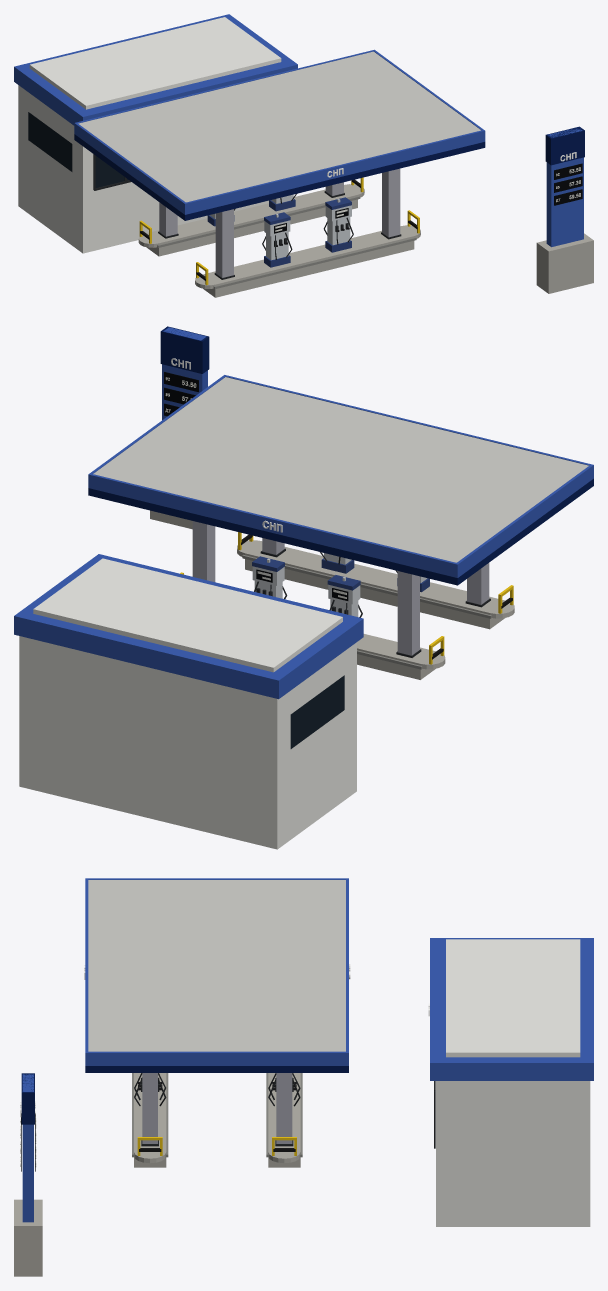
File: azs_snp.glb
3 views of the same model, one above another, from view 1: azimuth 30°, elevation 25°; view 2: azimuth 150°, elevation 25°; view 3: azimuth 270°, elevation 25° (orthographic). The views are drawn at different scales.
Parts seen in each view (by area): view 1: azs_snp_canopy, azs_snp_shop_wall, azs_snp_concrete, azs_snp_brand, azs_snp_shop_band, azs_snp_clad, azs_snp_brand2, azs_snp_stela, azs_snp_shop_glass, azs_snp_pump, azs_snp_curb, azs_snp_stela2 (+4 smaller); view 2: azs_snp_shop_wall, azs_snp_canopy, azs_snp_shop_band, azs_snp_brand, azs_snp_concrete, azs_snp_clad, azs_snp_brand2, azs_snp_shop_glass, azs_snp_stela2, azs_snp_pump, azs_snp_pump2, azs_snp_curb (+2 smaller); view 3: azs_snp_canopy, azs_snp_shop_wall, azs_snp_shop_band, azs_snp_brand, azs_snp_concrete, azs_snp_clad, azs_snp_brand2, azs_snp_stela, azs_snp_curb, azs_snp_metal, azs_snp_stela2.
Part boxes in pixels (bbox=[...]): azs_snp_canopy: bbox=[78, 51, 480, 202]; azs_snp_shop_wall: bbox=[18, 17, 281, 253]; azs_snp_concrete: bbox=[138, 184, 593, 297]; azs_snp_brand: bbox=[74, 49, 485, 214]; azs_snp_shop_band: bbox=[14, 14, 297, 125]; azs_snp_clad: bbox=[159, 168, 400, 277]; azs_snp_brand2: bbox=[74, 134, 485, 220]; azs_snp_stela: bbox=[546, 127, 583, 247]; azs_snp_shop_glass: bbox=[28, 112, 128, 187]; azs_snp_pump: bbox=[210, 194, 351, 260]; azs_snp_curb: bbox=[157, 196, 416, 289]; azs_snp_stela2: bbox=[545, 126, 584, 165]; azs_snp_shop_wall: bbox=[19, 558, 356, 849]; azs_snp_canopy: bbox=[93, 377, 588, 562]; azs_snp_shop_band: bbox=[14, 554, 363, 699]; azs_snp_brand: bbox=[88, 375, 593, 577]; azs_snp_concrete: bbox=[150, 510, 514, 679]; azs_snp_clad: bbox=[192, 521, 489, 655]; azs_snp_brand2: bbox=[88, 478, 593, 585]; azs_snp_shop_glass: bbox=[290, 675, 344, 748]; azs_snp_stela2: bbox=[160, 326, 209, 373]; azs_snp_pump: bbox=[252, 553, 427, 616]; azs_snp_pump2: bbox=[252, 556, 429, 592]; azs_snp_curb: bbox=[242, 554, 491, 669]; azs_snp_canopy: bbox=[88, 880, 345, 1051]; azs_snp_shop_wall: bbox=[436, 939, 590, 1226]; azs_snp_shop_band: bbox=[430, 938, 593, 1080]; azs_snp_brand: bbox=[85, 878, 348, 1065]; azs_snp_concrete: bbox=[14, 1073, 300, 1276]; azs_snp_clad: bbox=[142, 1073, 292, 1143]; azs_snp_brand2: bbox=[85, 1066, 348, 1072]; azs_snp_stela: bbox=[22, 1074, 33, 1222]; azs_snp_curb: bbox=[132, 1073, 302, 1157]; azs_snp_metal: bbox=[134, 1073, 435, 1148]; azs_snp_stela2: bbox=[21, 1073, 34, 1124].
Size of the model in its own units: 20.95 by 9 by 23.32.
